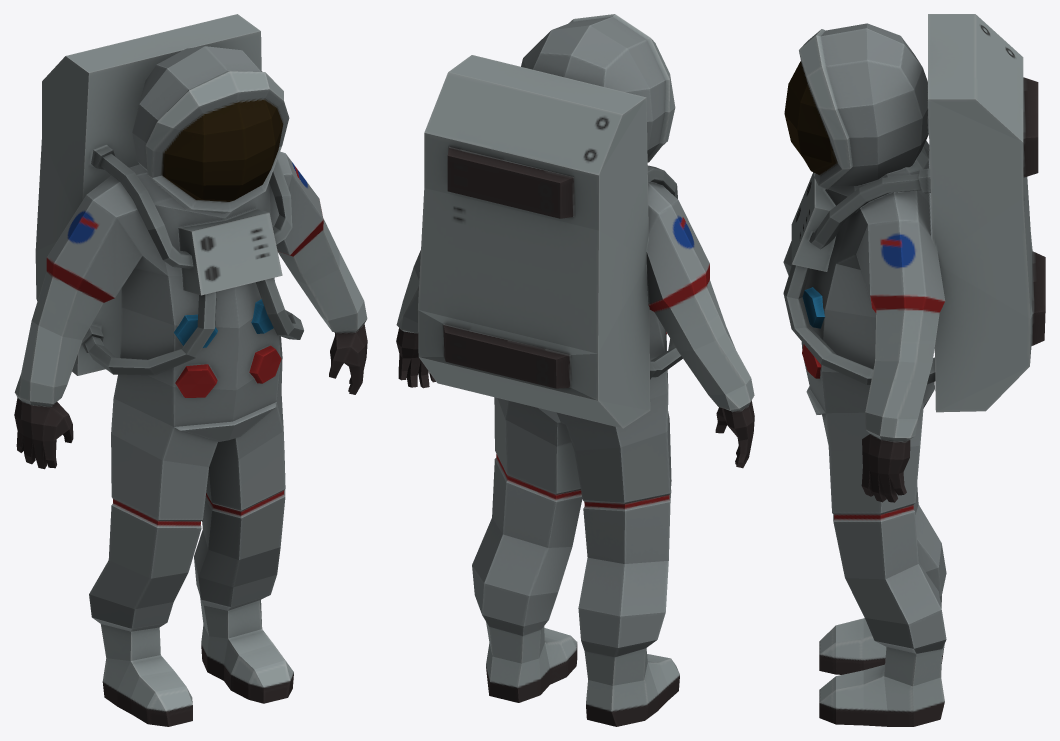
Rendered from astronaut2.glb.
The picture shows the model from 3 angles, left to right: view 1: azimuth 30°, elevation 25°; view 2: azimuth 150°, elevation 25°; view 3: azimuth 270°, elevation 25°; orthographic projection.
Parts seen in each view (by area): view 1: node-0; view 2: node-0; view 3: node-0.
Part boxes in pixels (<box>): node-0: <box>14,14,367,726</box>; node-0: <box>396,14,754,726</box>; node-0: <box>783,14,1045,726</box>.
Bounding box in the file's own units: 3.14 × 5.63 × 2.03.
Materials: 1 (1 with a texture image).
